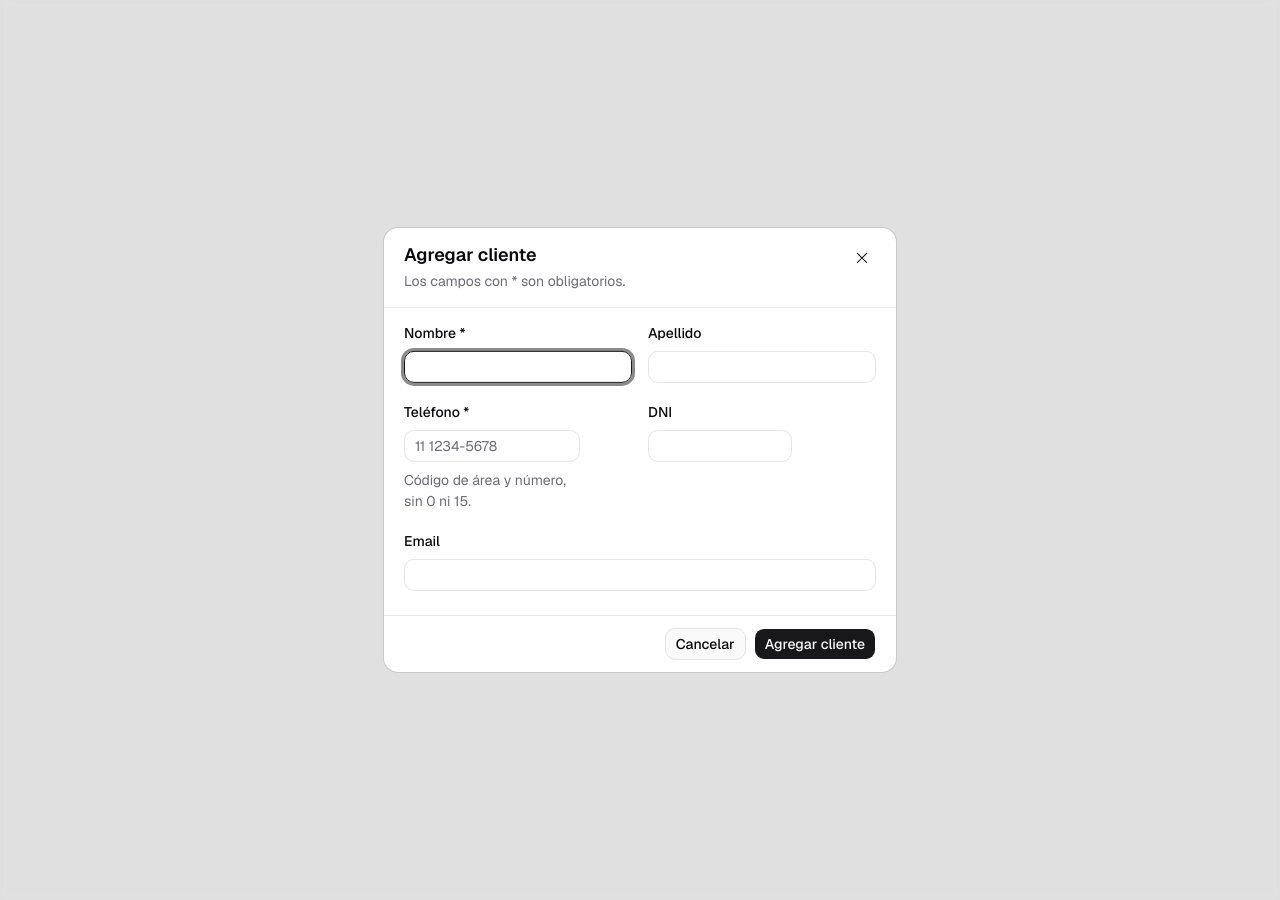
Test: ClientModal: create › formats the phone as the user types and accepts only digits
The width and height of the screenshot is (1280, 900).
Check: the dialog is shown, box x1=384 y1=228 x2=896 y2=672
Type "1" into the field labelled "Teléfono *" at [492, 446], box x1=404 y1=430 x2=580 y2=462
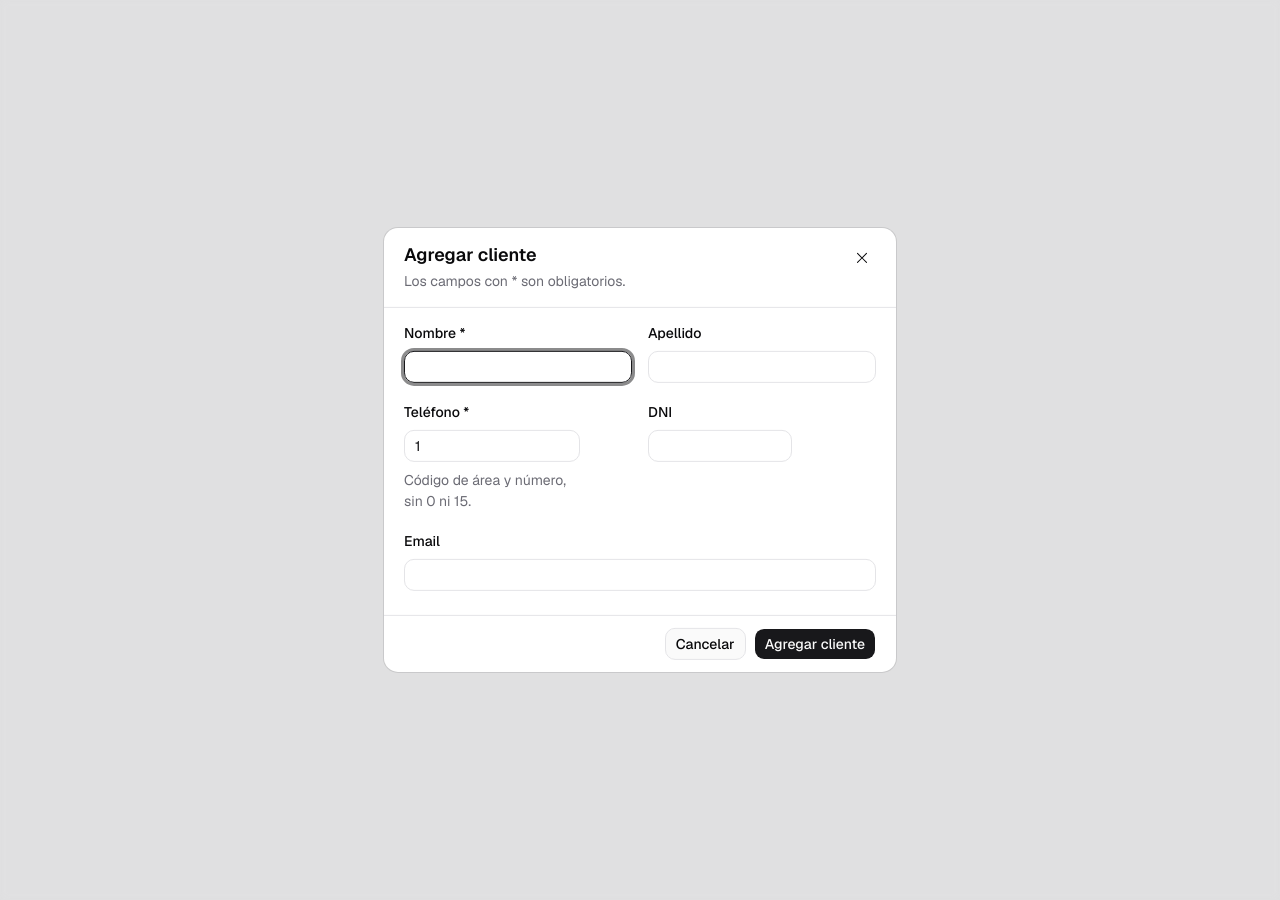
Replace the text in the field labelled "Teléfono *" with "11" at [492, 446], box x1=404 y1=430 x2=580 y2=462
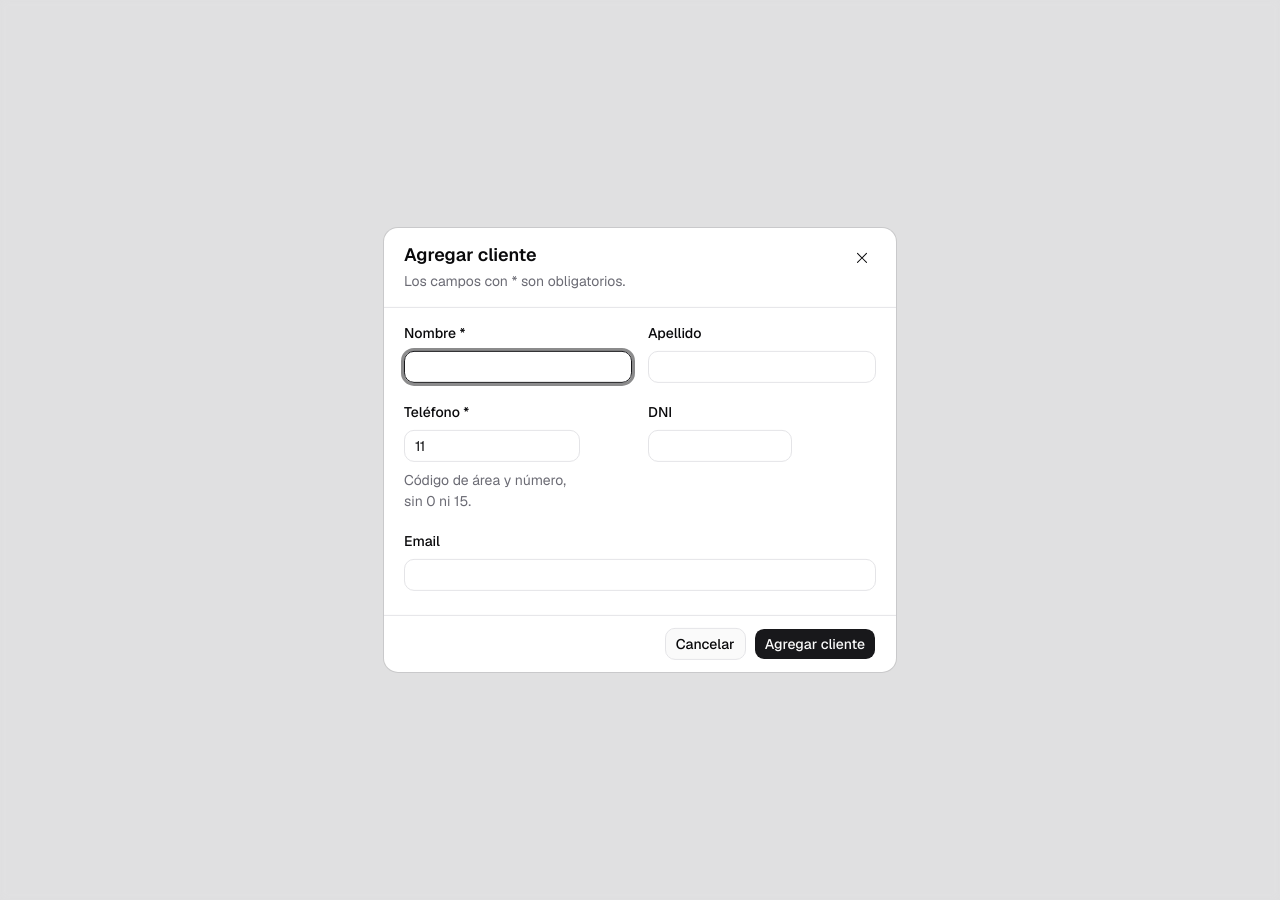
Replace the text in the field labelled "Teléfono *" with "111" at [492, 446], box x1=404 y1=430 x2=580 y2=462
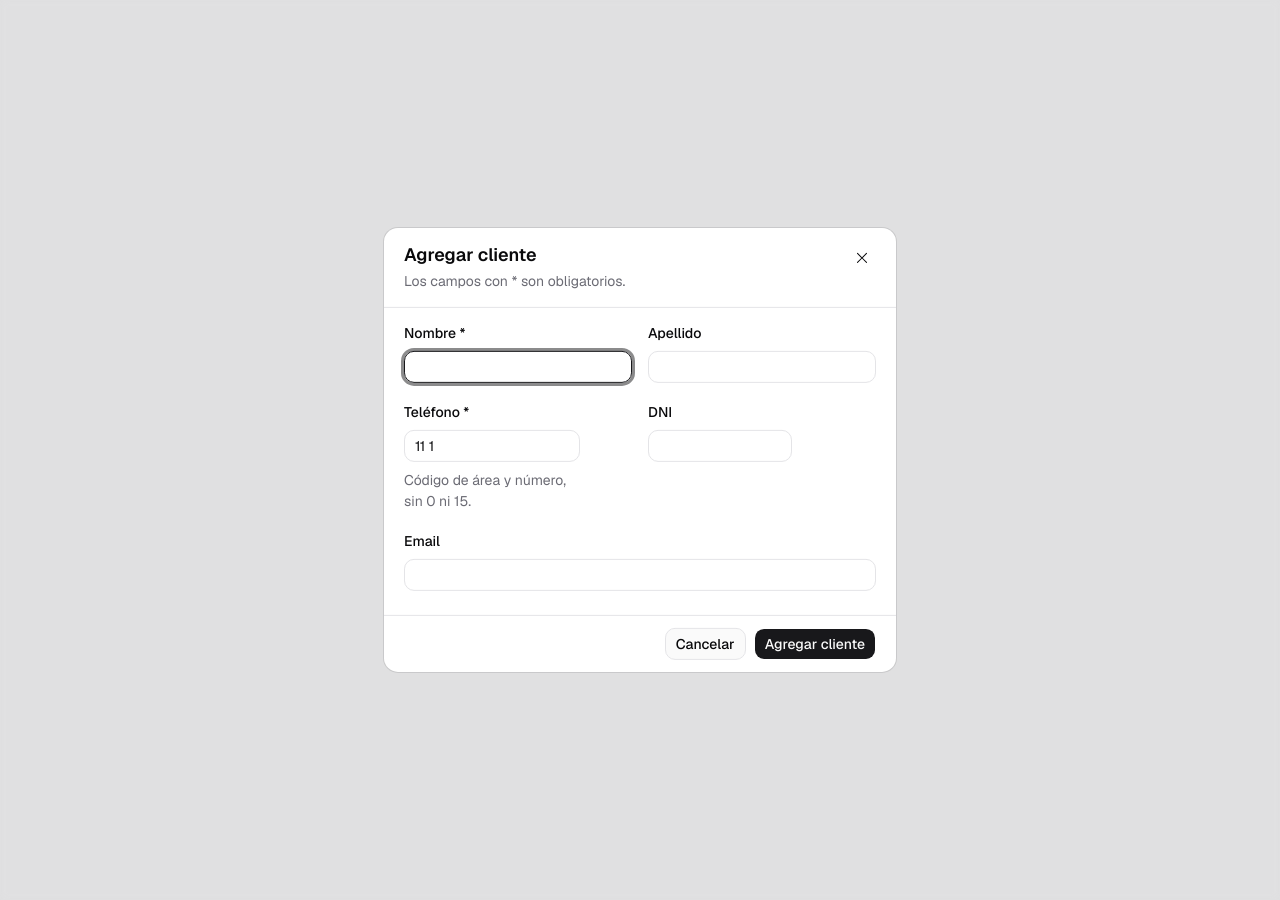
Replace the text in the field labelled "Teléfono *" with "11 1234" at [492, 446], box x1=404 y1=430 x2=580 y2=462
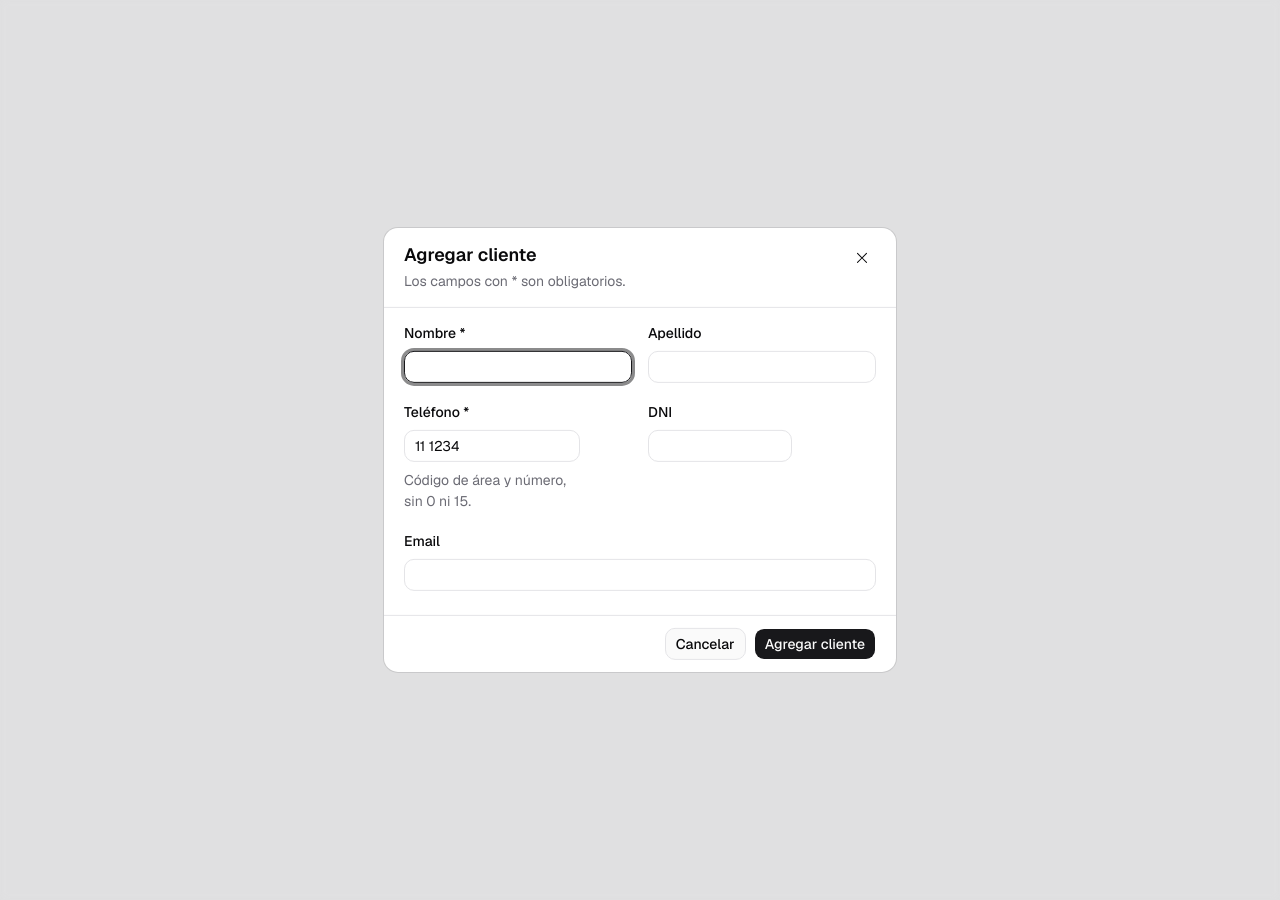
Replace the text in the field labelled "Teléfono *" with "11 1234-5" at [492, 446], box x1=404 y1=430 x2=580 y2=462
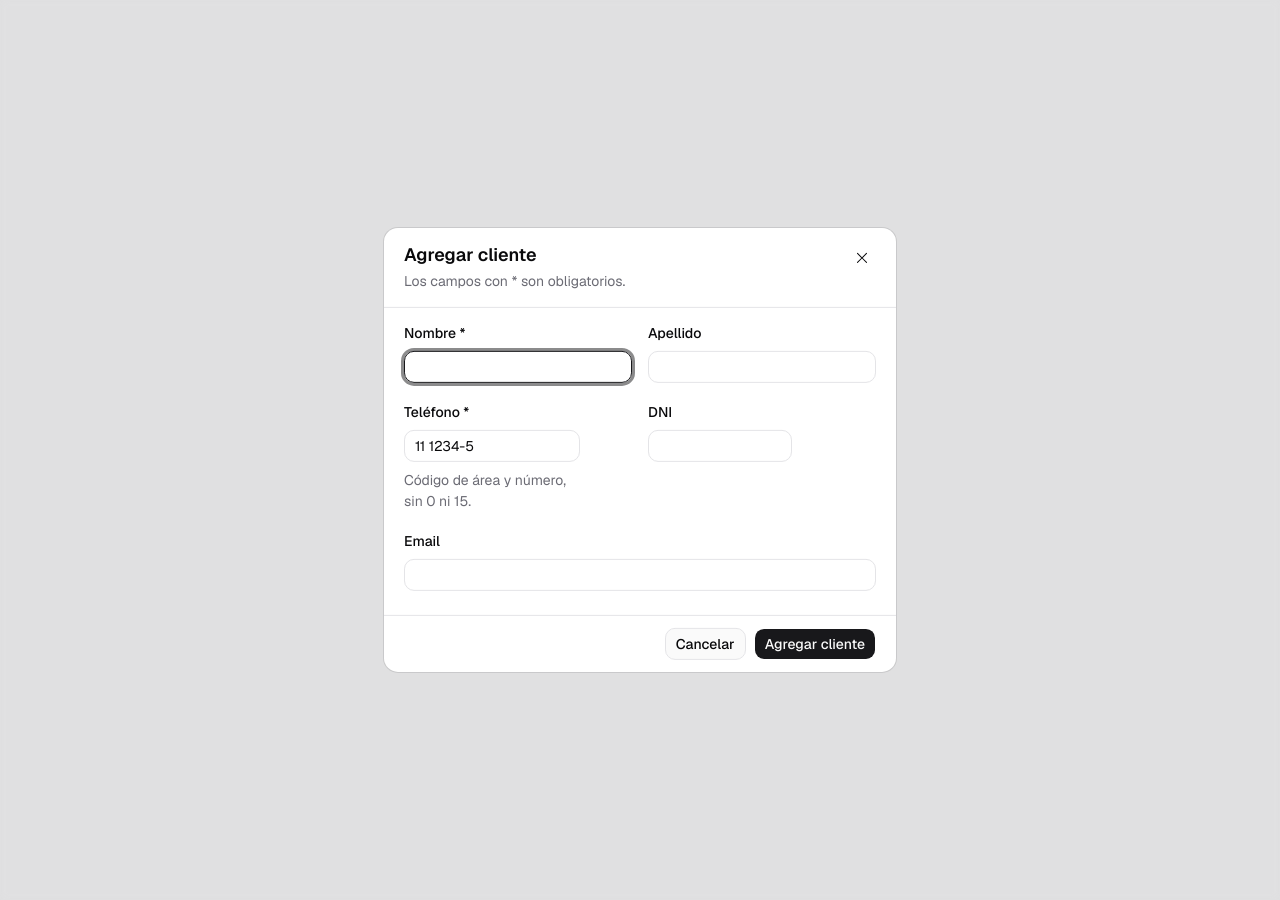
Replace the text in the field labelled "Teléfono *" with "11a1234-5678" at [492, 446], box x1=404 y1=430 x2=580 y2=462
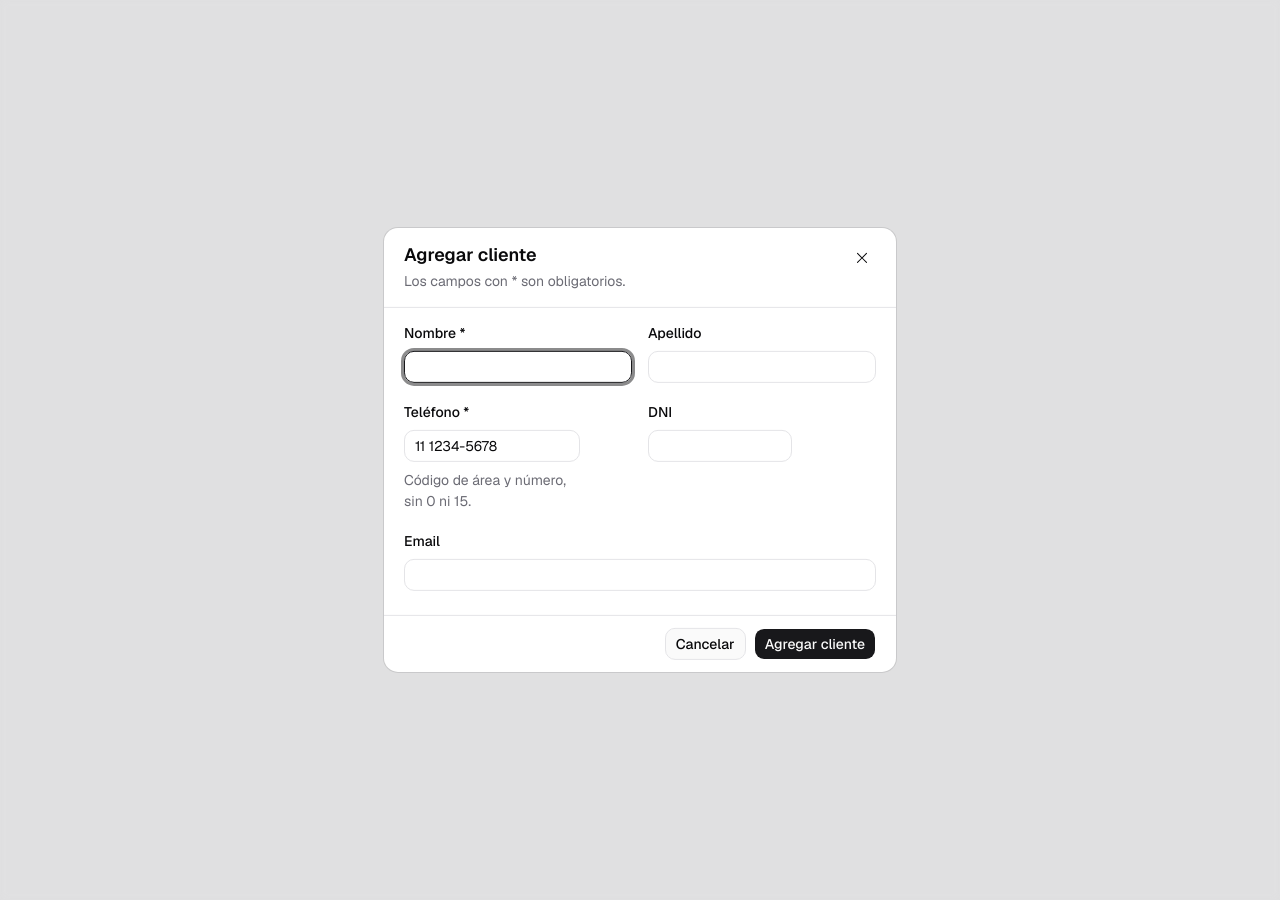
Check: the field labelled "Teléfono *" holds "11 1234-5678", box x1=404 y1=430 x2=580 y2=462
